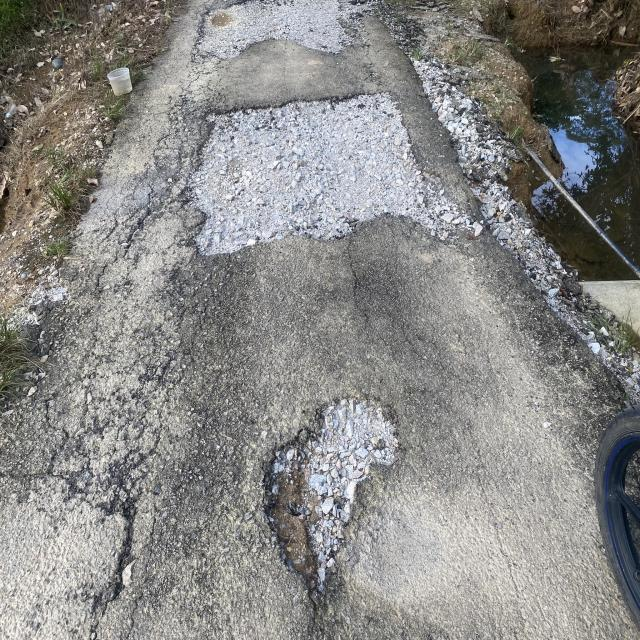pothole: (176, 67, 474, 283), (242, 397, 464, 602)
